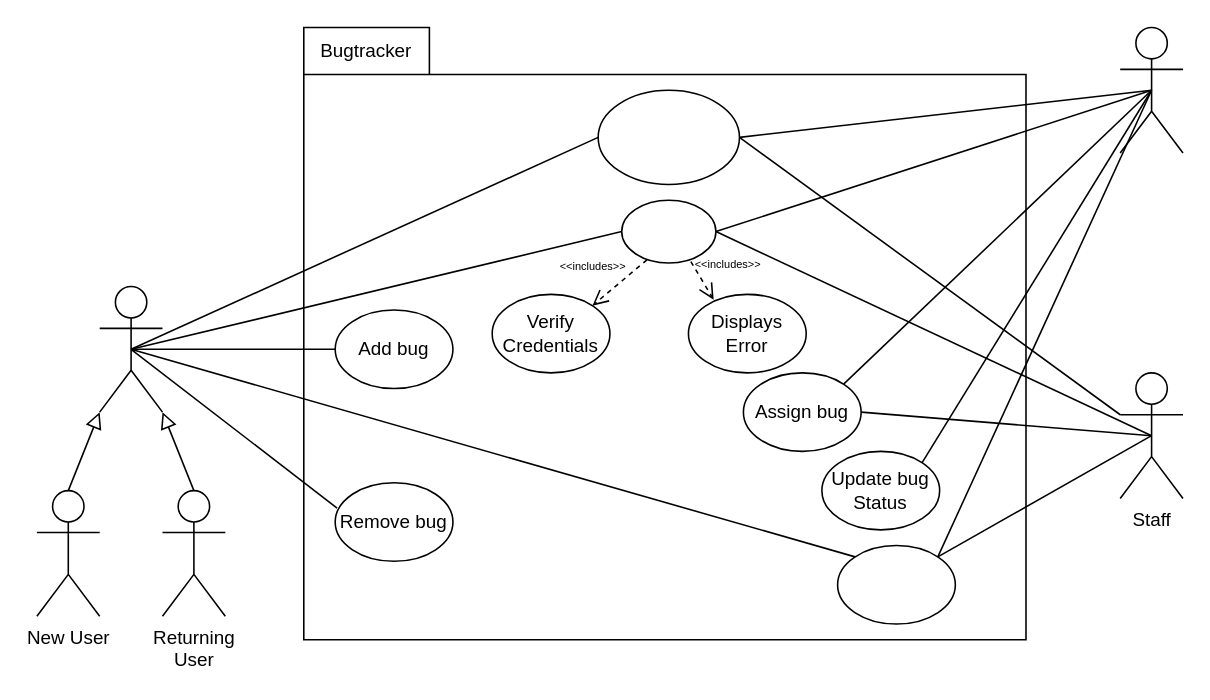
Image size: 1210x700. Some labels were removed from this diagram. The shapes that lost their labels are listed below. From the top down, each one's centre as x and y in pixels, then its label:
(x=1151, y=89): Admin
(x=668, y=136): View bug
(x=668, y=231): Login
(x=130, y=348): User
(x=895, y=584): View Bug Flow
